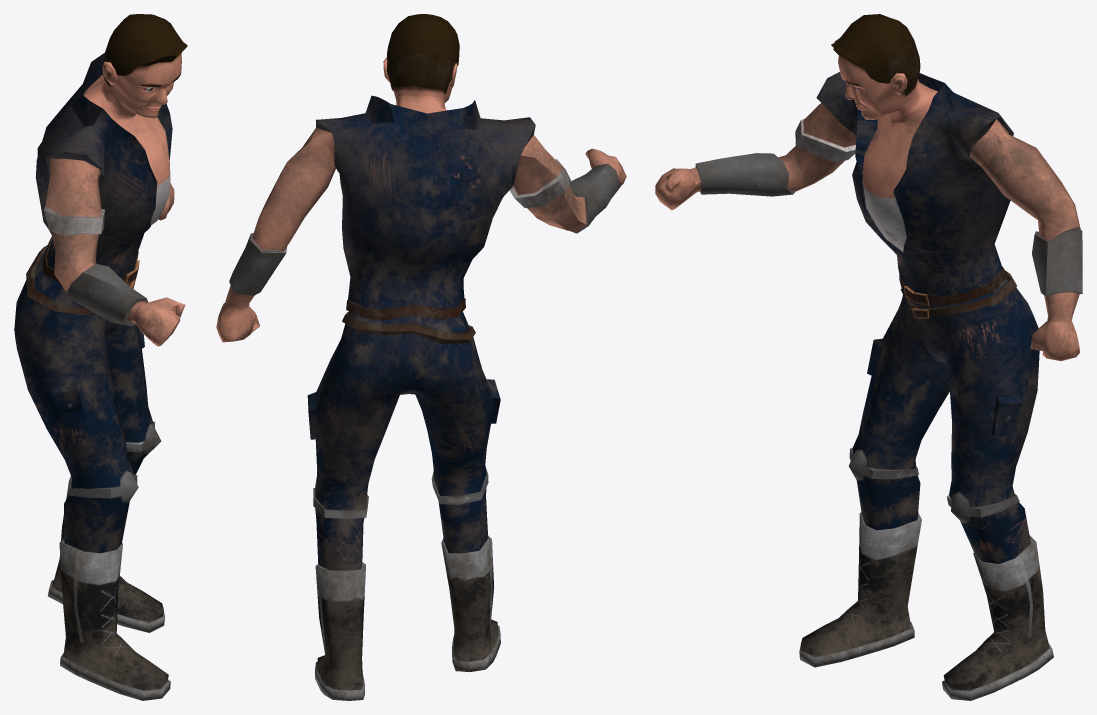
Rendered from Anim_puerta_mal_jugador.0030.obj.
The picture shows the model from 3 angles, left to right: view 1: azimuth 30°, elevation 25°; view 2: azimuth 150°, elevation 25°; view 3: azimuth 270°, elevation 25°; orthographic projection. The views are drawn at different scales.
Visible parts, largest first — view 1: polySurface1; view 2: polySurface1; view 3: polySurface1.
Boxes of the visible parts, x1,y1,x2,y2 form: polySurface1: (14, 14, 187, 700); polySurface1: (216, 14, 626, 700); polySurface1: (655, 14, 1082, 700).
Size of the model in its own units: 3.64 by 9.4 by 5.58.
